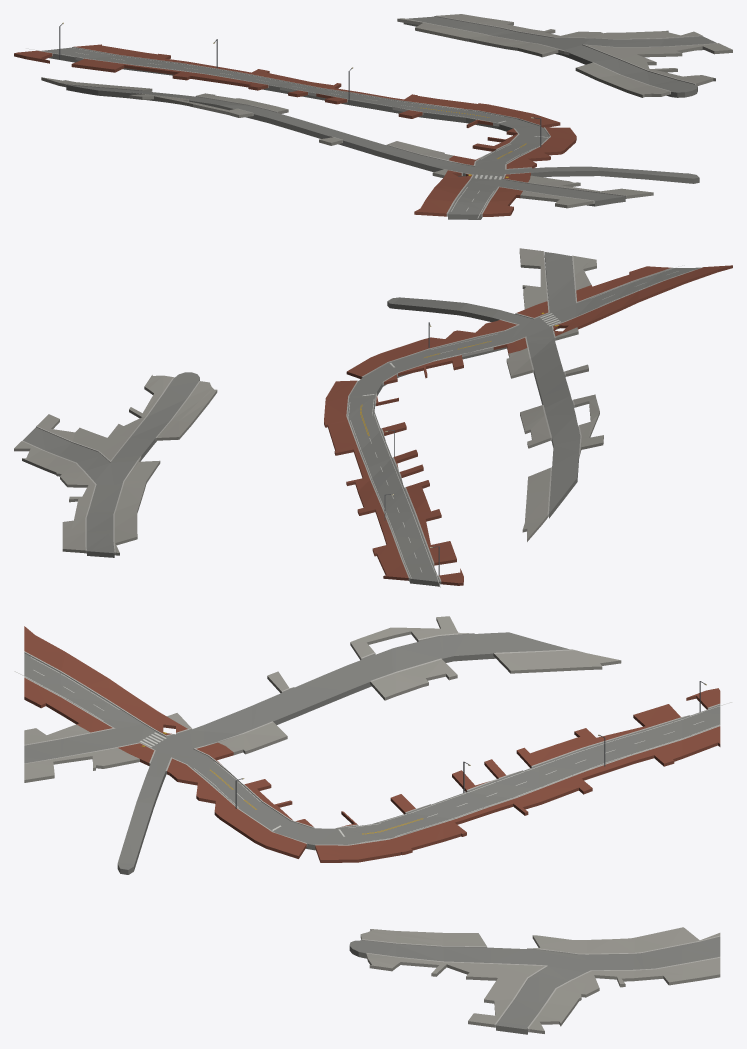
3 renders of one model, top to bottom at view 1: azimuth 30°, elevation 25°; view 2: azimuth 150°, elevation 25°; view 3: azimuth 270°, elevation 25°, orthographic. The views are drawn at different scales.
Bounding box in the file's own units: 147 × 36.69 × 151.
